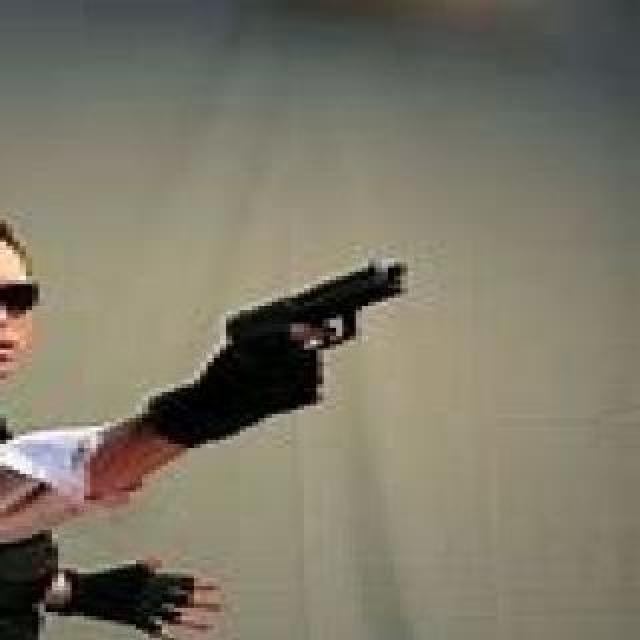Guns: (217, 258, 414, 380)
